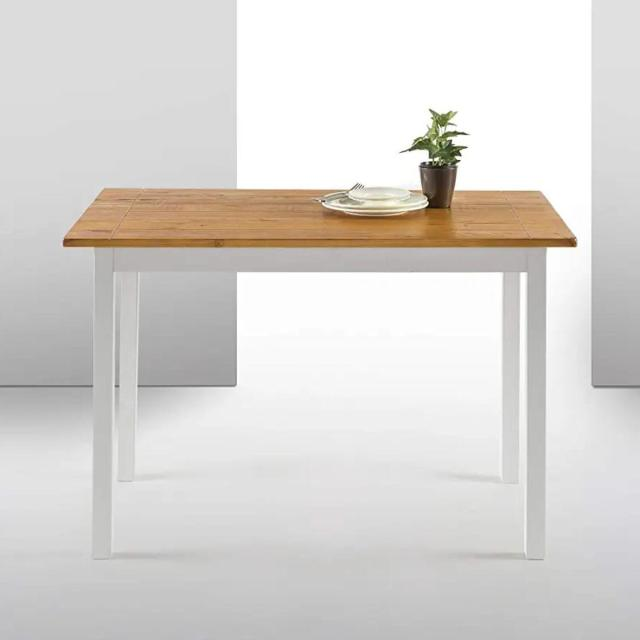table: (61, 161, 578, 572)
